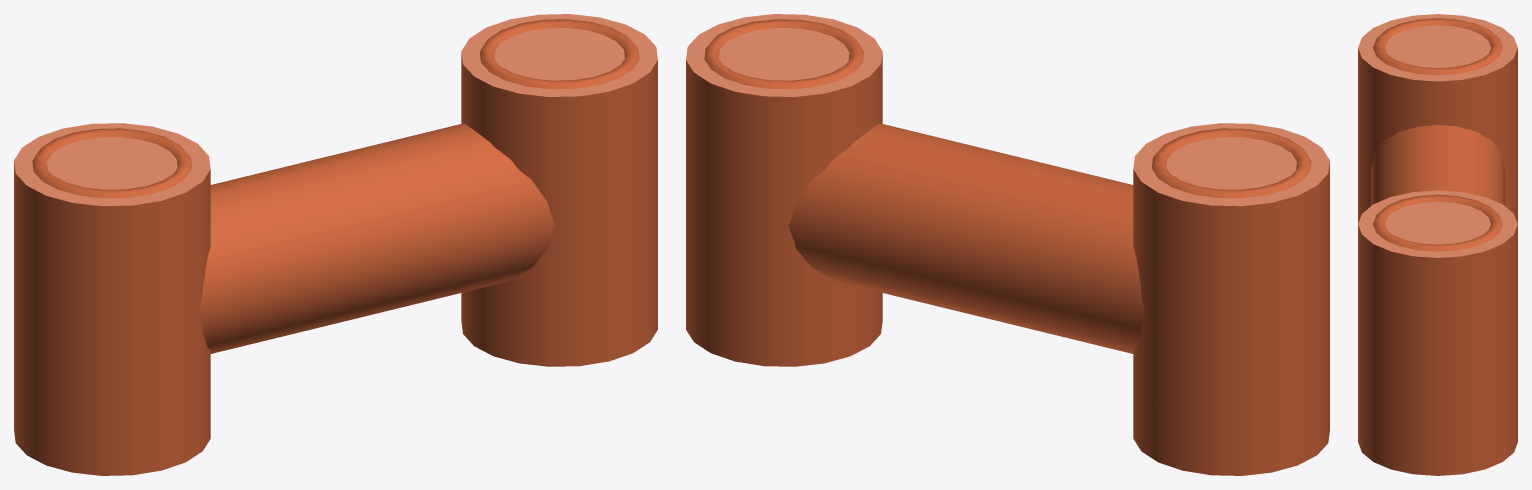
Rendered from Fence_1.fbx.
3 renders of one model, left to right at view 1: azimuth 30°, elevation 25°; view 2: azimuth 150°, elevation 25°; view 3: azimuth 270°, elevation 25°, orthographic. The views are drawn at different scales.
Visible parts, largest first — view 1: Fence, Fence_Beam; view 2: Fence, Fence_Beam; view 3: Fence, Fence_Beam.
Boxes of the visible parts, box(x1,y1,x2,y2) form: Fence: box(14, 14, 657, 475); Fence_Beam: box(199, 123, 555, 353); Fence: box(686, 14, 1329, 475); Fence_Beam: box(788, 123, 1144, 353); Fence: box(1358, 14, 1517, 475); Fence_Beam: box(1371, 125, 1504, 205).
Size of the model in its own units: 189 by 79.83 by 52.3.
